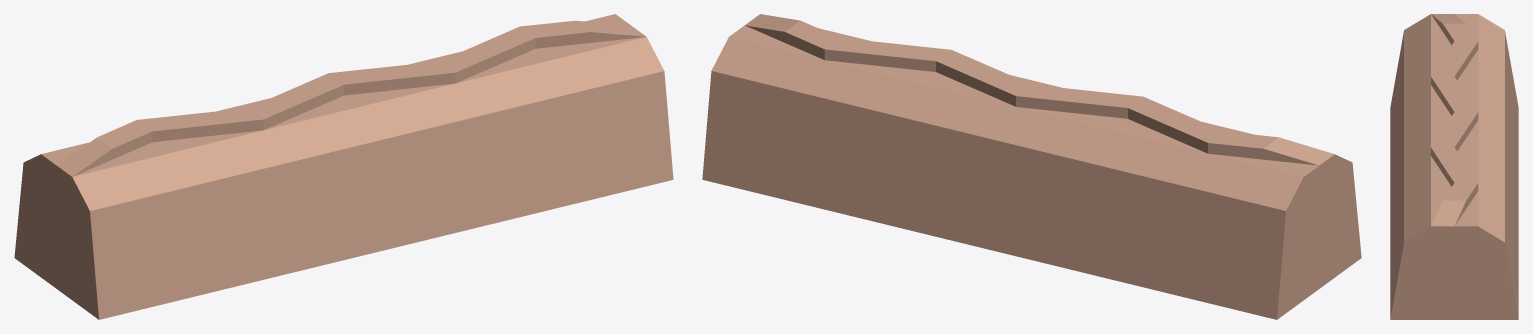
Rendered from candy-bar.glb.
3 renders of one model, left to right at view 1: azimuth 30°, elevation 25°; view 2: azimuth 150°, elevation 25°; view 3: azimuth 270°, elevation 25°, orthographic. The views are drawn at different scales.
Parts seen in each view (by area): view 1: candyBar; view 2: candyBar; view 3: candyBar.
Part boxes in pixels (x1,y1,x2,y2): candyBar: [14, 14, 673, 319]; candyBar: [702, 14, 1361, 319]; candyBar: [1390, 14, 1518, 319].
Size of the model in its own units: 0.2924 by 0.0653 by 0.0746.
